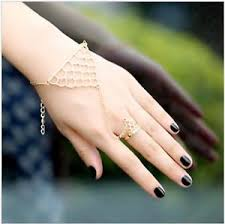hand: (27, 38, 200, 206)
